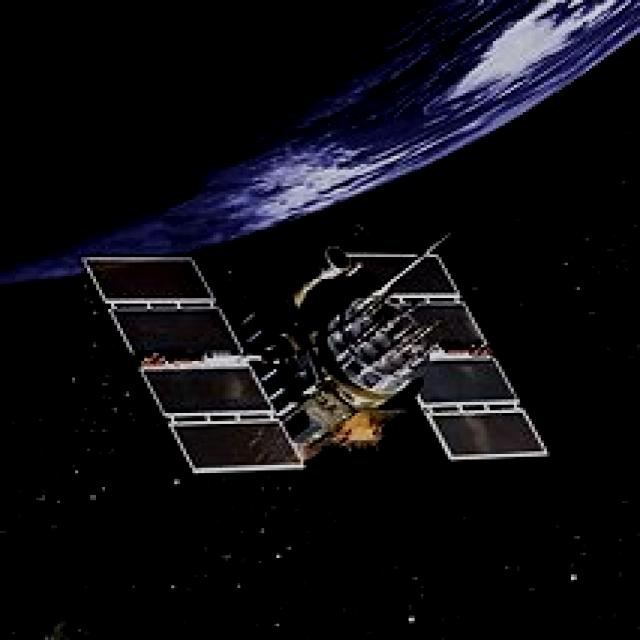satellite: (83, 202, 569, 522)
